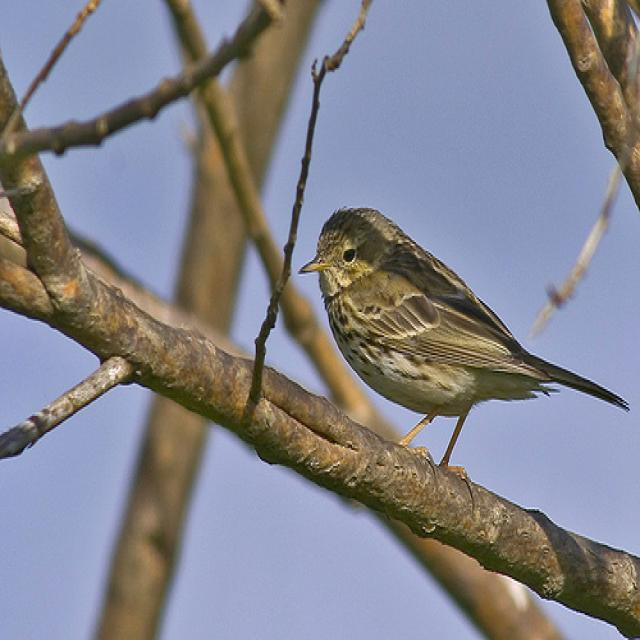bird: (298, 207, 629, 480)
